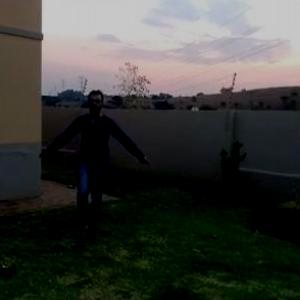land: (50, 92, 149, 218)
